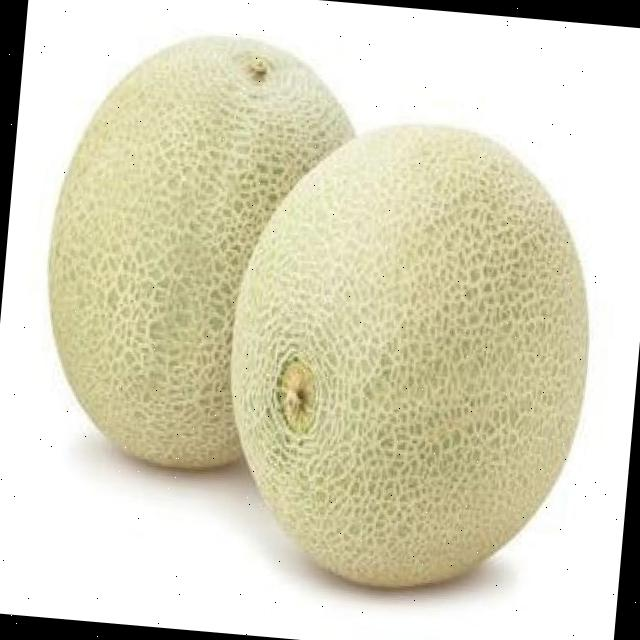Hami Melon: (208, 104, 605, 600), (29, 18, 362, 480)
